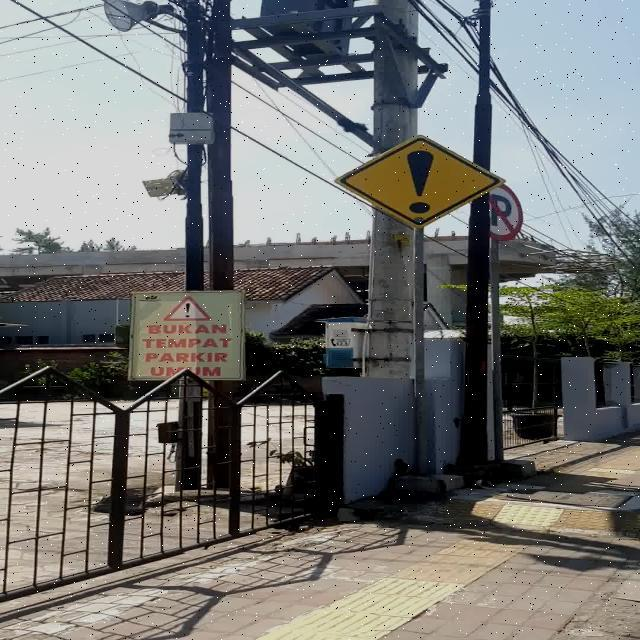Hati-Hati: (334, 134, 506, 228)
